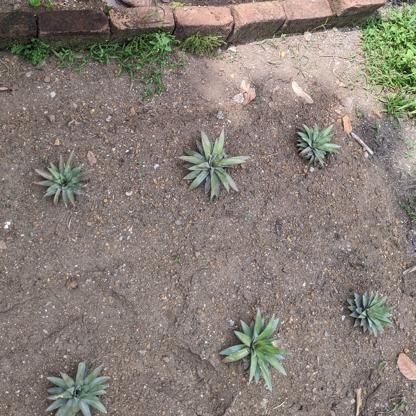pineapple: (218, 308, 290, 390), (177, 129, 250, 206), (40, 358, 112, 416), (32, 148, 93, 209), (345, 287, 399, 344), (292, 118, 343, 169)
